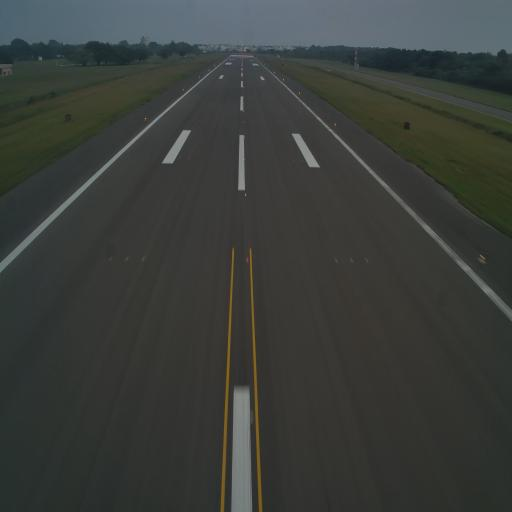off: (139, 250, 147, 267), (108, 249, 116, 265), (348, 254, 355, 268), (362, 254, 370, 266), (332, 253, 339, 266), (124, 253, 132, 264), (299, 157, 304, 165), (178, 153, 182, 161), (187, 153, 191, 161), (292, 157, 296, 165)
on: (478, 248, 488, 266), (244, 254, 250, 265), (332, 121, 338, 128), (143, 113, 147, 122), (242, 133, 246, 142), (241, 118, 246, 124), (244, 191, 248, 198), (242, 156, 246, 162)
